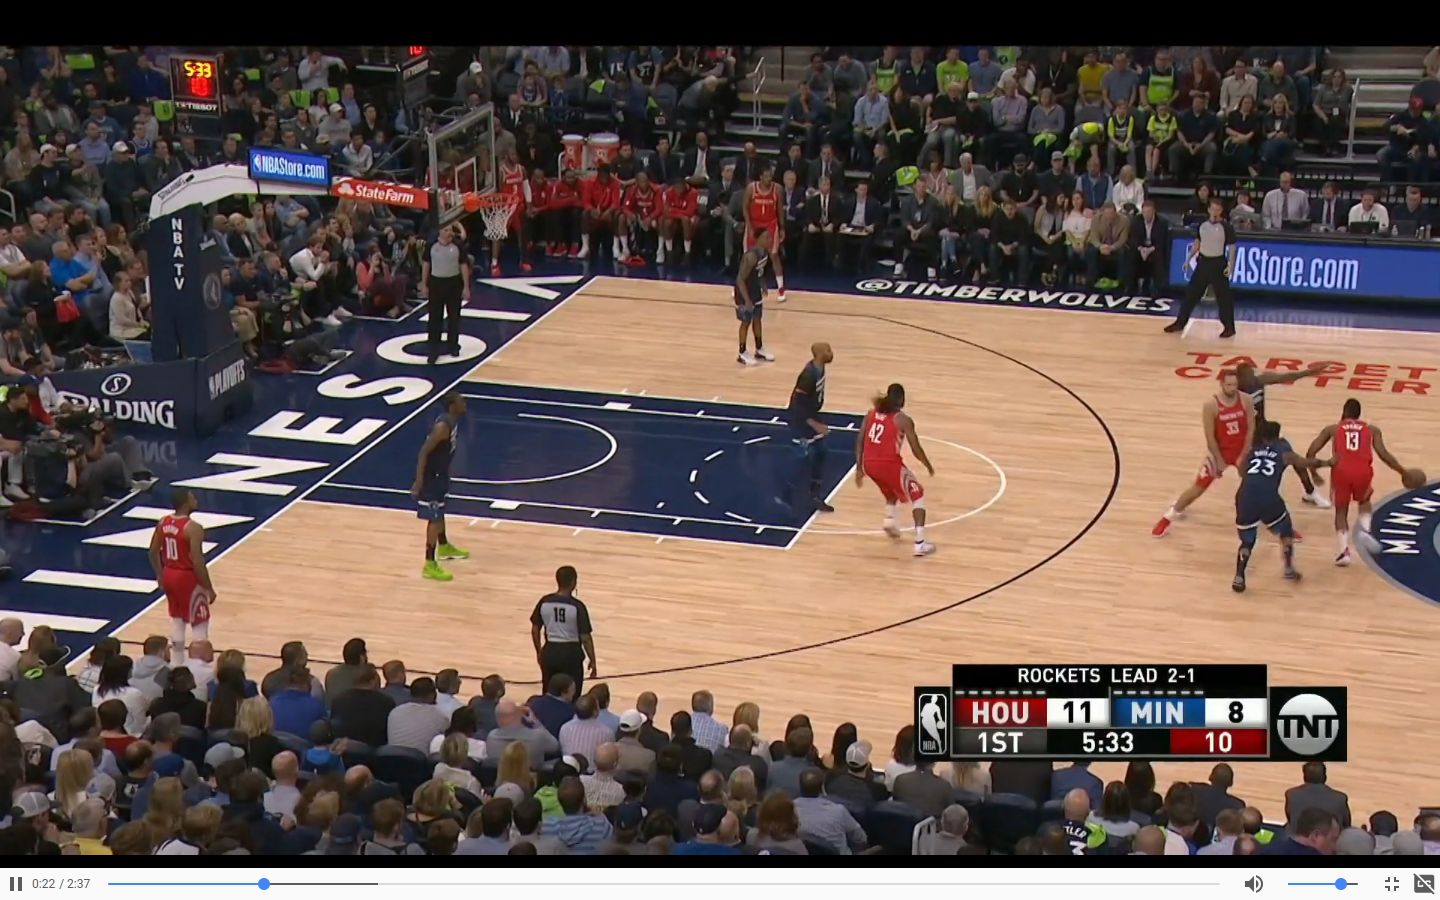basketball: (1398, 466, 1428, 491)
basketball player: (1153, 369, 1248, 534), (852, 376, 932, 565), (1225, 419, 1307, 585), (1313, 399, 1385, 569), (148, 486, 213, 646), (773, 346, 836, 511), (413, 394, 465, 583), (732, 225, 773, 365), (744, 168, 781, 240)
referee: (1162, 200, 1247, 336), (519, 565, 601, 694), (421, 225, 473, 368)
